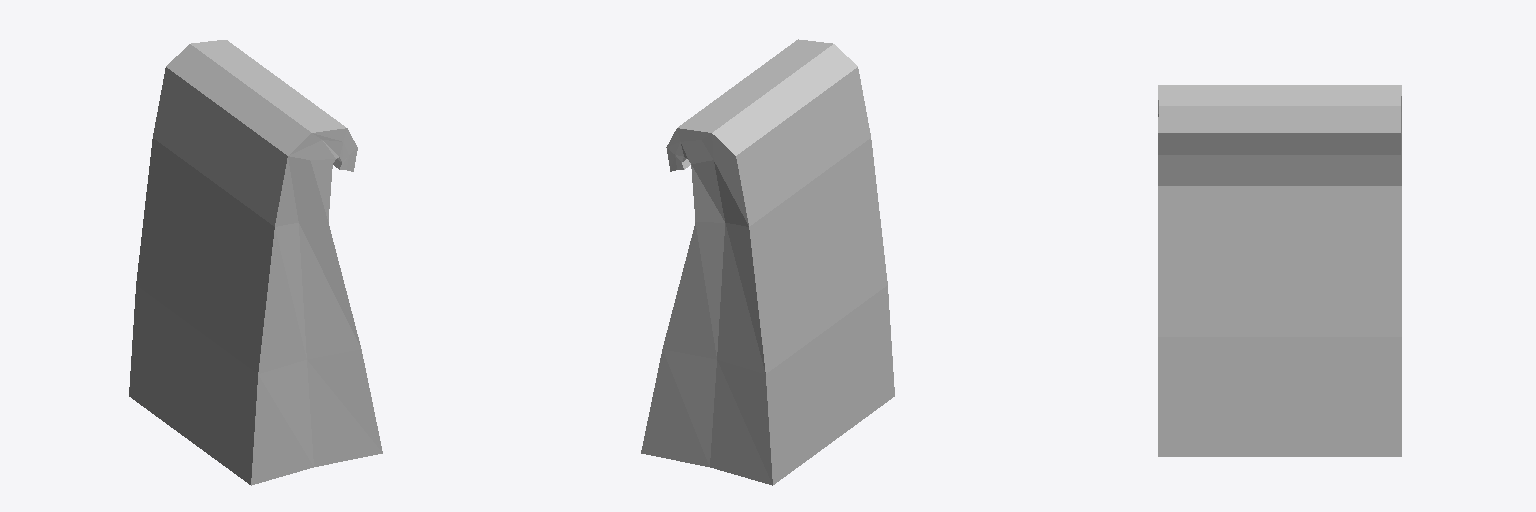
The model's file is paper-bag.obj.
3 renders of one model, left to right at view 1: azimuth 30°, elevation 25°; view 2: azimuth 150°, elevation 25°; view 3: azimuth 270°, elevation 25°, orthographic.
Visible parts, largest first — view 1: Cube; view 2: Cube; view 3: Cube.
Part boxes in pixels (x1,y1,x2,y2): Cube: (129, 40, 382, 485); Cube: (641, 39, 894, 485); Cube: (1158, 85, 1401, 456).
Bounding box in the file's own units: 0.9394 × 2.3 × 1.5.